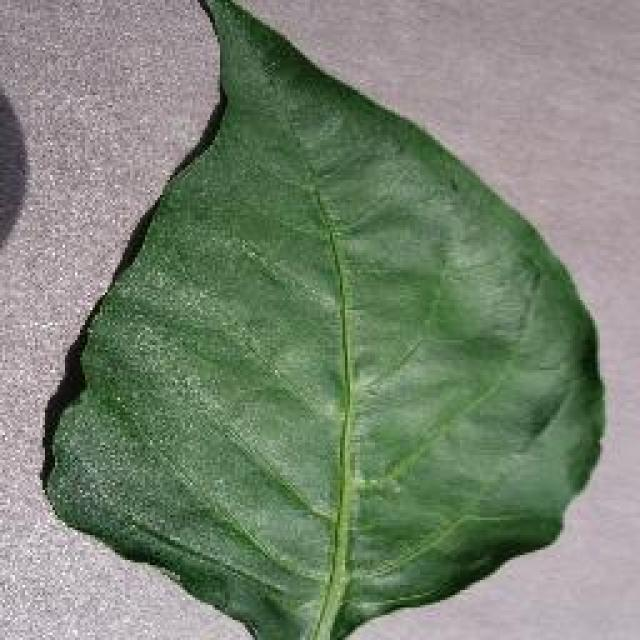Chilli_Healthy: (38, 0, 608, 638)
